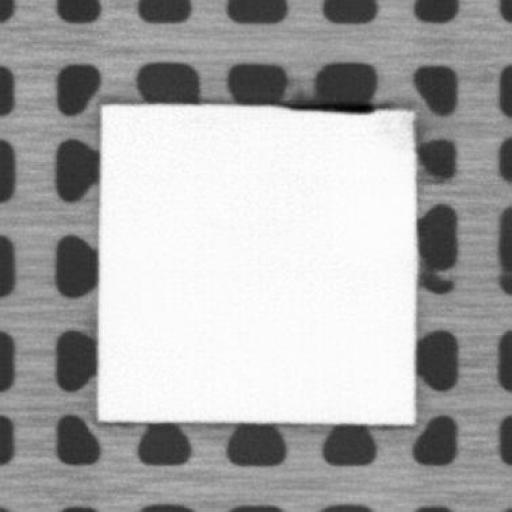DIE_BROKEN: (280, 100, 376, 115)
